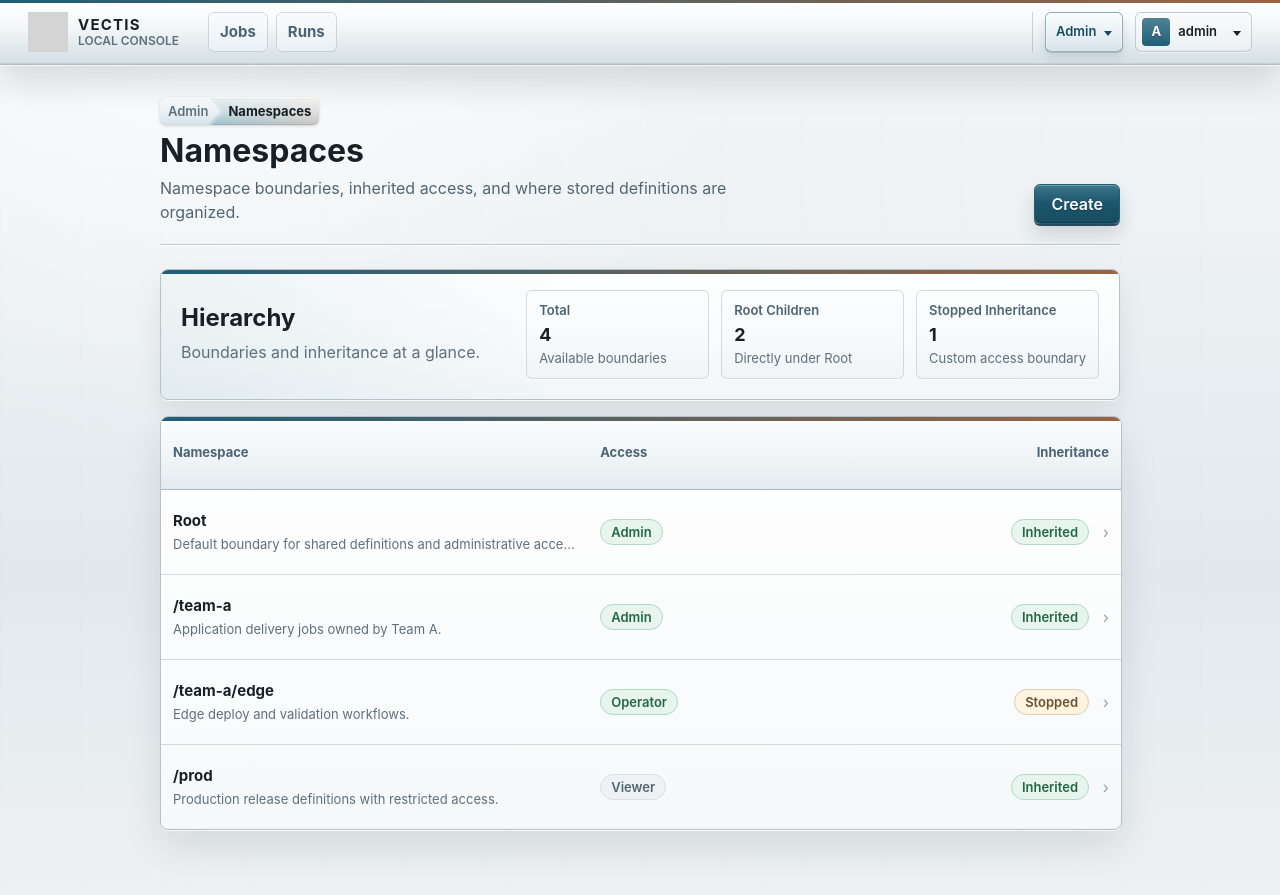
Scenario: App › creates and deletes an empty namespace in the mock
This screenshot has width=1280, height=895.
Expected: the heading "Namespaces" is shown, [160,131,364,170]
Expected: the button with aria-label "View /" is shown, [161,490,1121,575]
Click the button "Create" at (1077, 204), box [1034,184,1120,224]
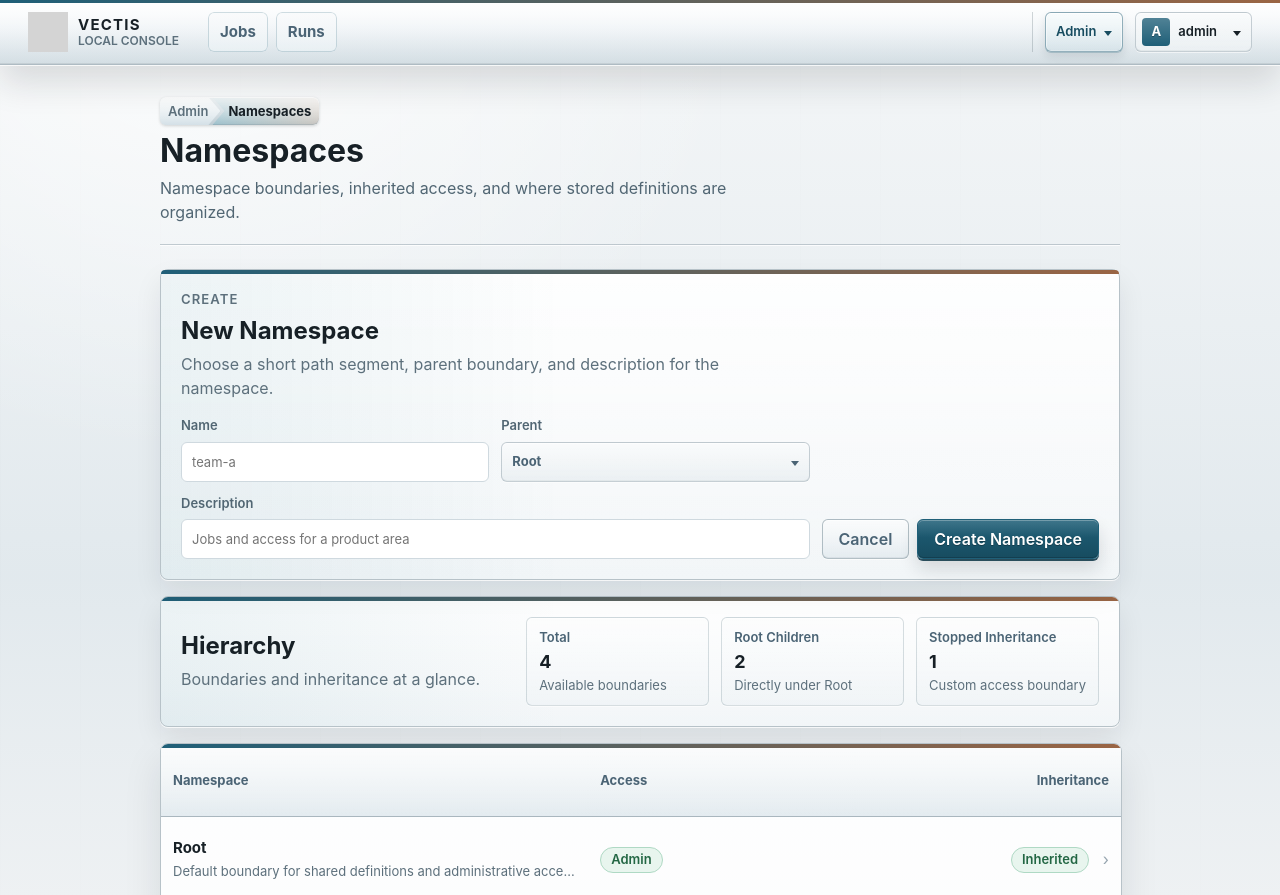
Type "sandbox" into the field labelled "Name" at (335, 462), box [181,442,489,482]
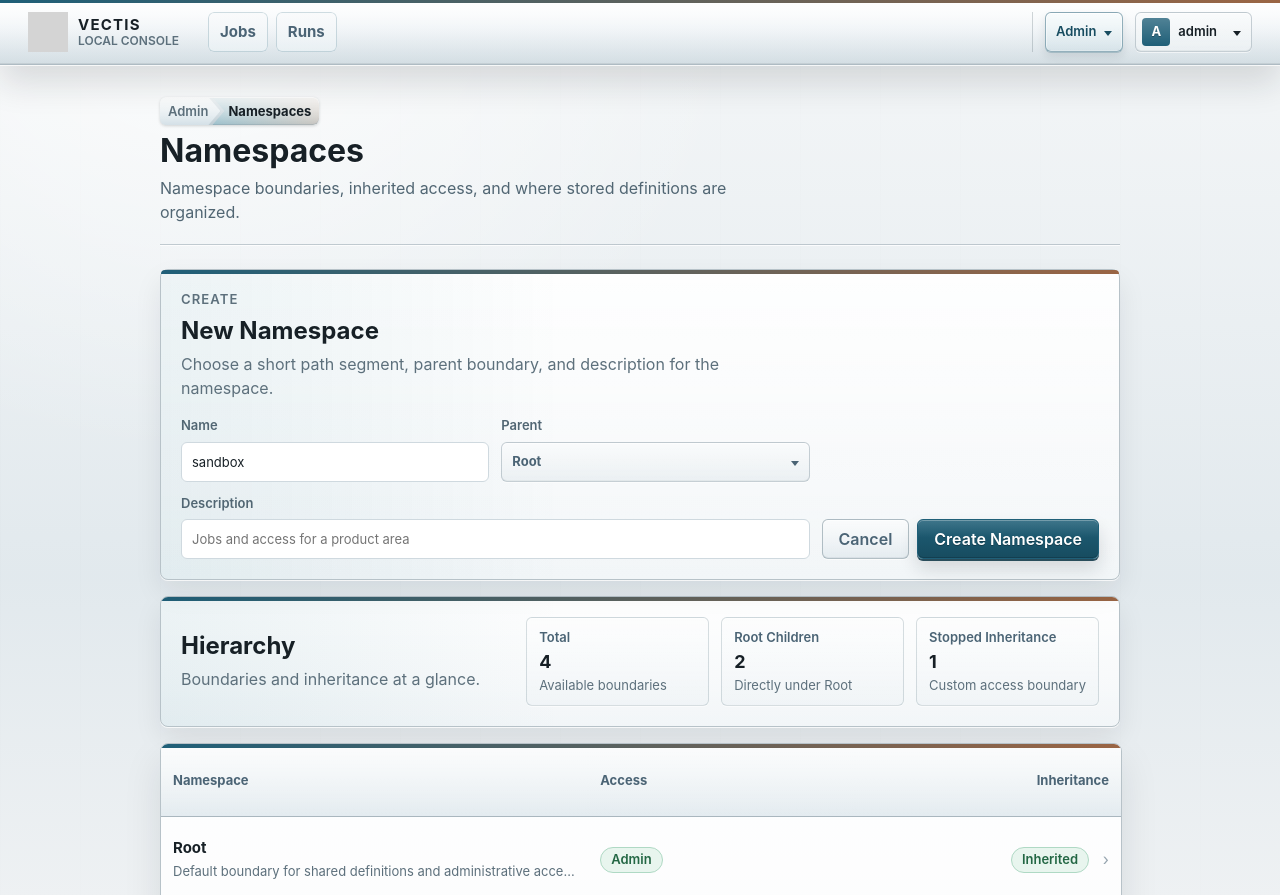
Type "Temporary test boundary." into the field labelled "Description" at (495, 539), box [181,519,810,559]
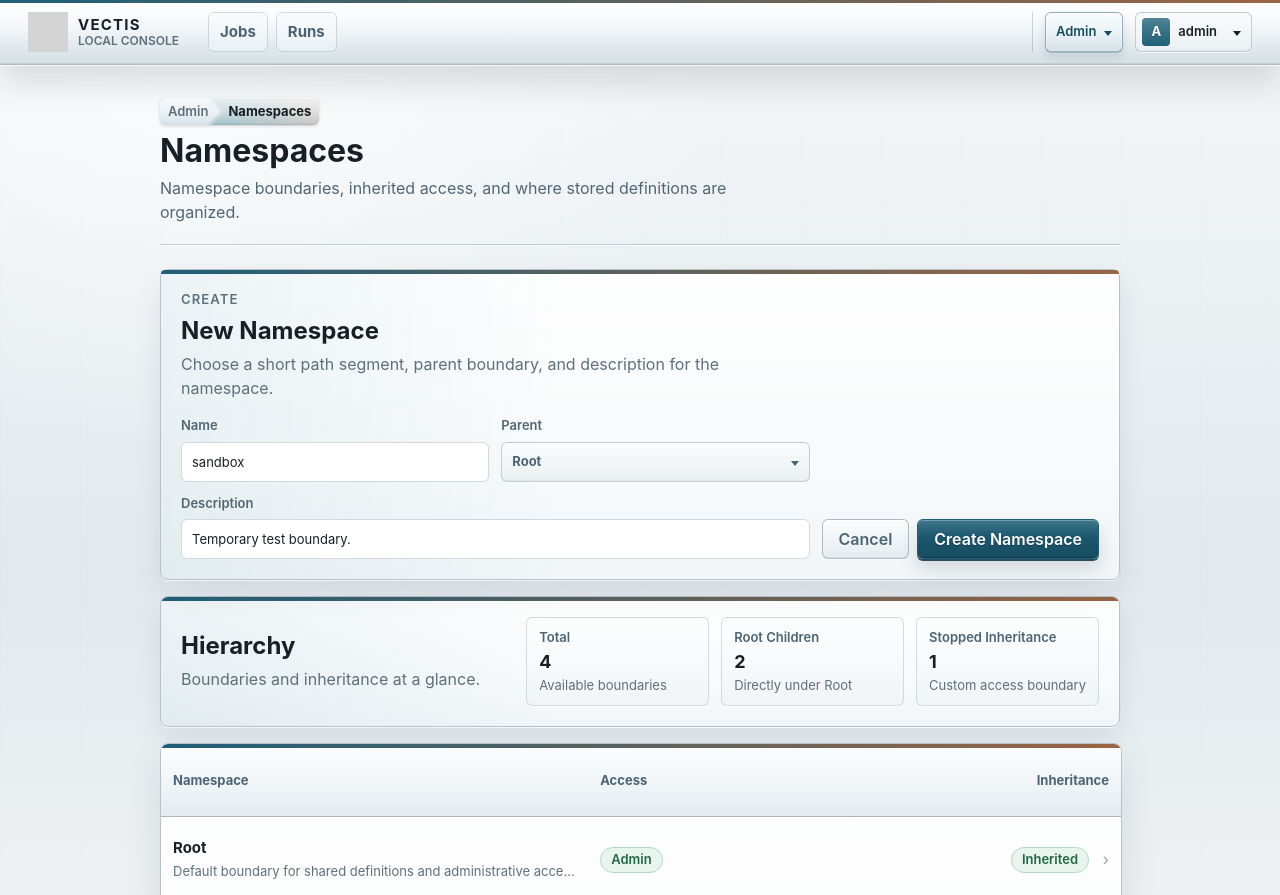
Click the button "Create Namespace" at (1008, 539), box [917,519,1099,559]
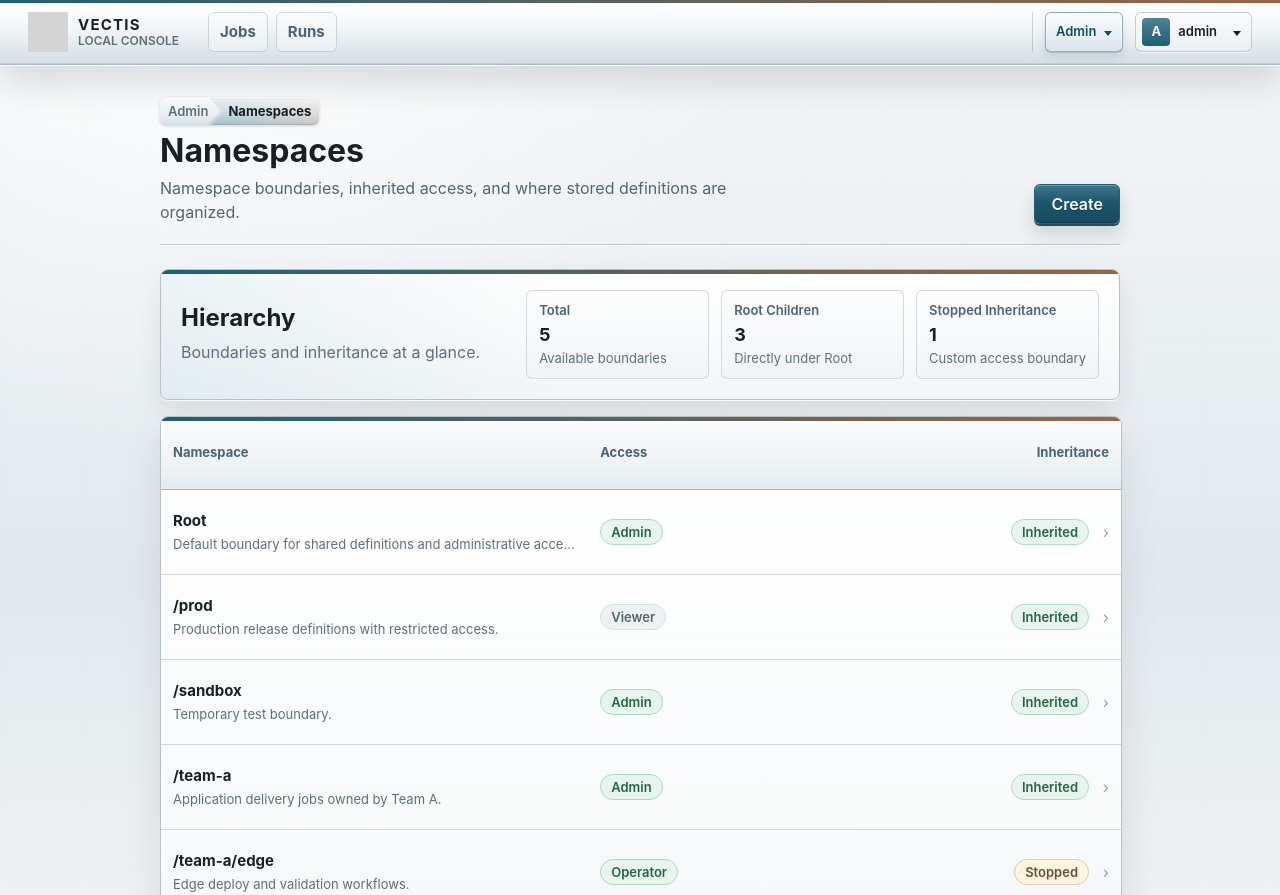
Expected: the button with aria-label "View /sandbox" is shown
Expected: the text "Temporary test boundary." is shown, [173,706,332,722]
Click the button with aria-label "View /sandbox" at (641, 702), box [161,660,1121,745]
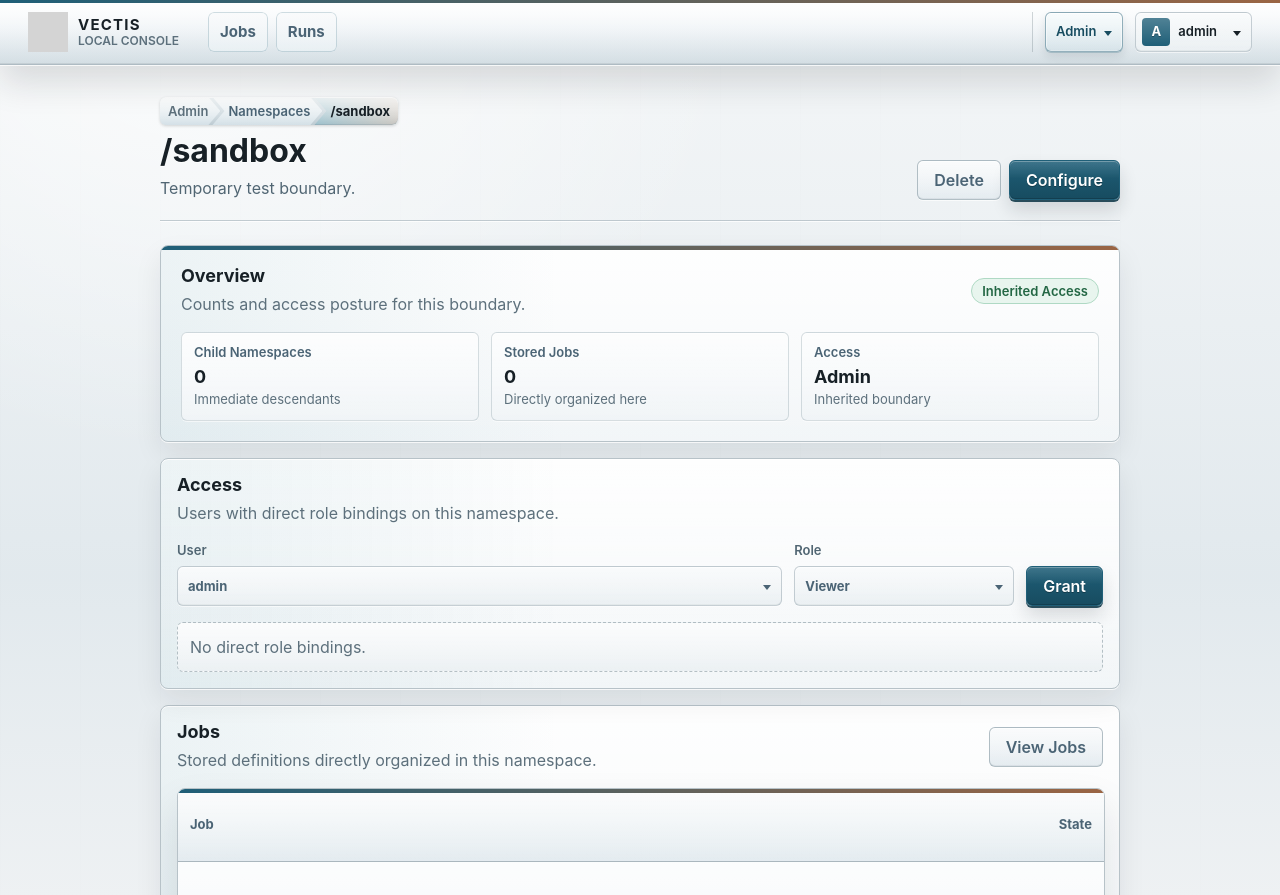
Expected: the heading "/sandbox" is shown, [160,131,307,170]
Click the button "Delete" at (959, 180), box [917,160,1001,200]
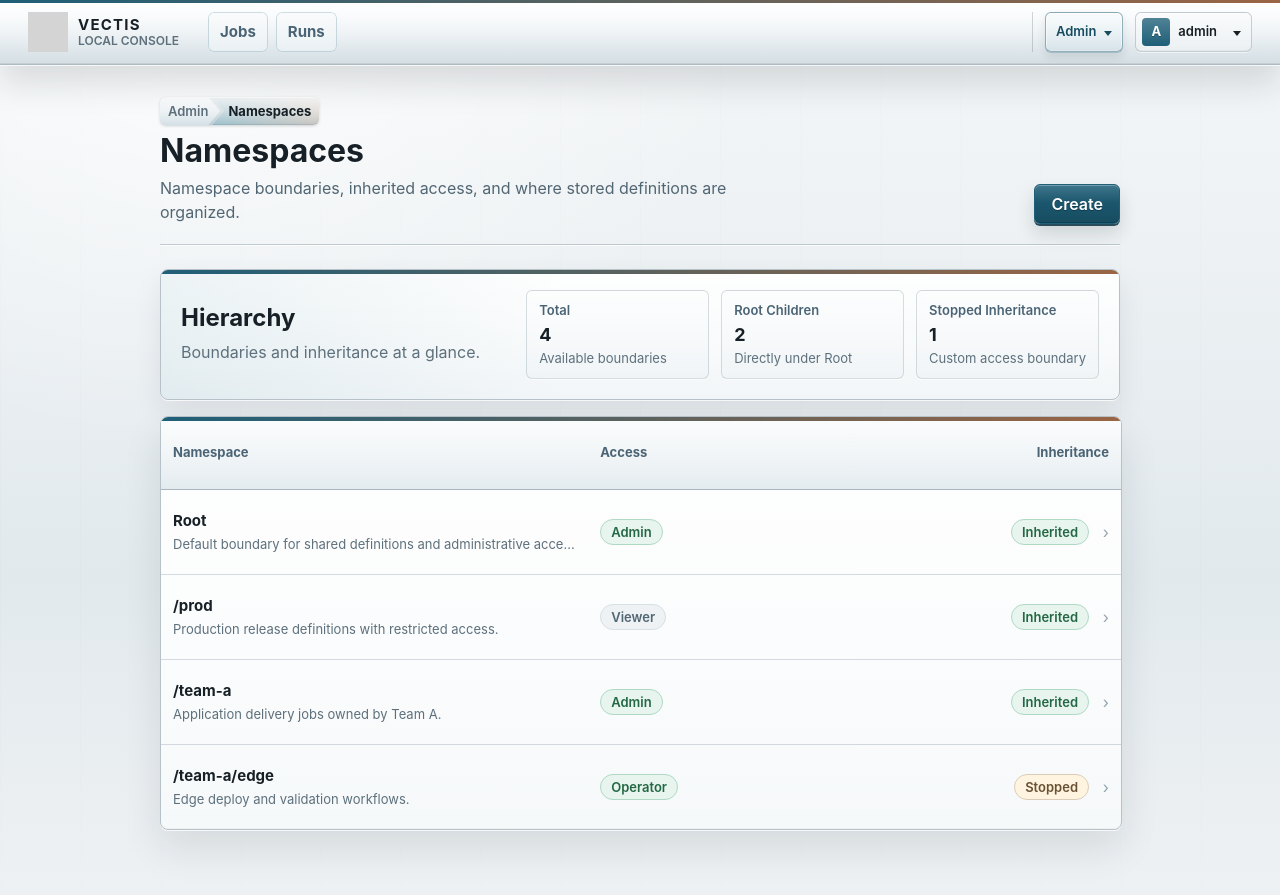
Expected: the heading "Namespaces" is shown, [160,131,364,170]
